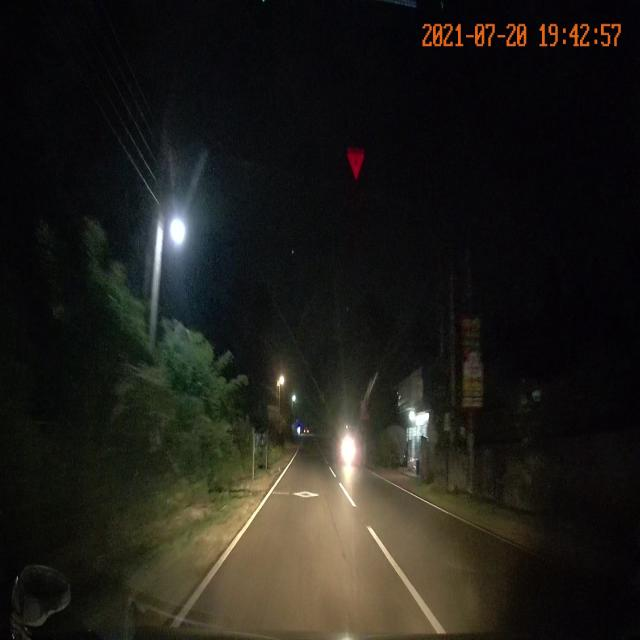diamond: (255, 479, 362, 510)
